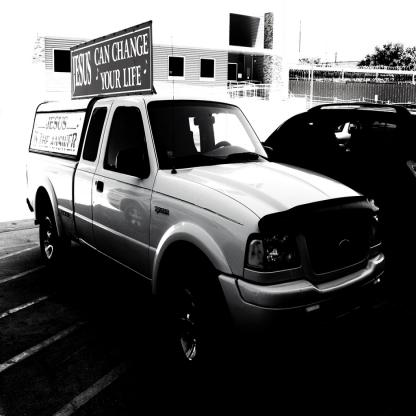Car: (26, 19, 386, 366), (261, 102, 415, 227)
Truck: (26, 21, 386, 386)
